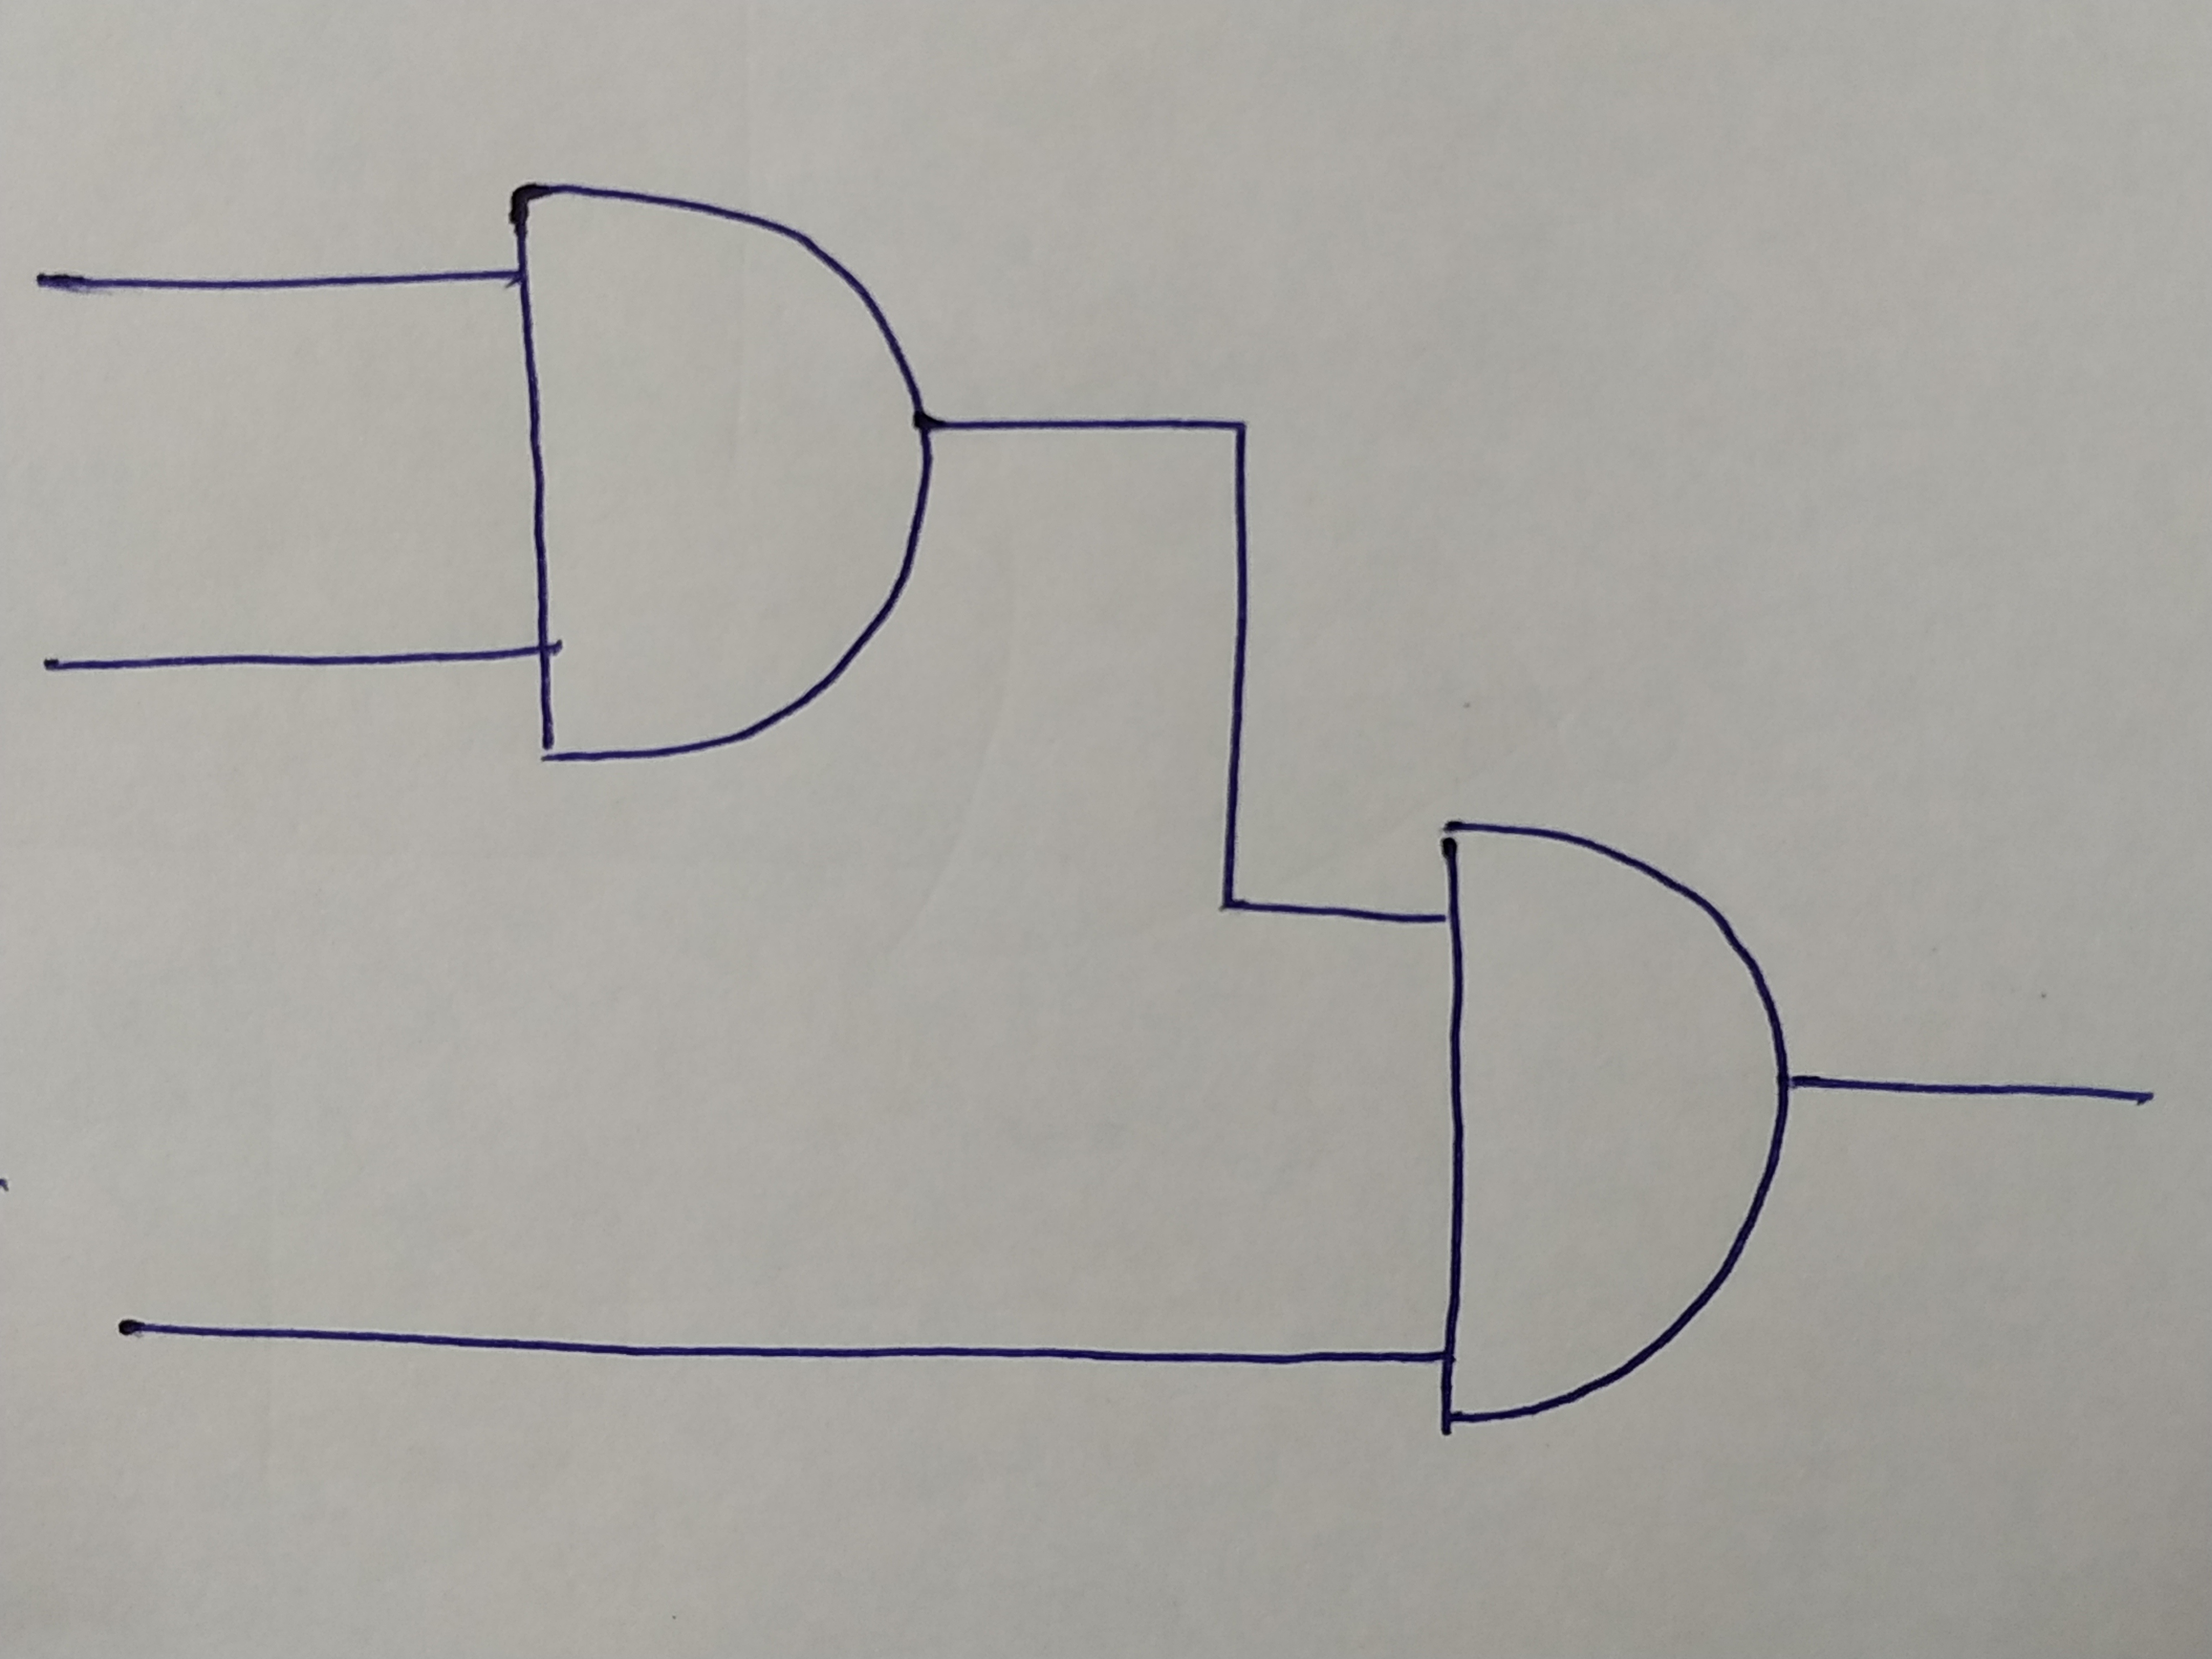and: (510, 181, 927, 762), (1437, 819, 1782, 1420)
